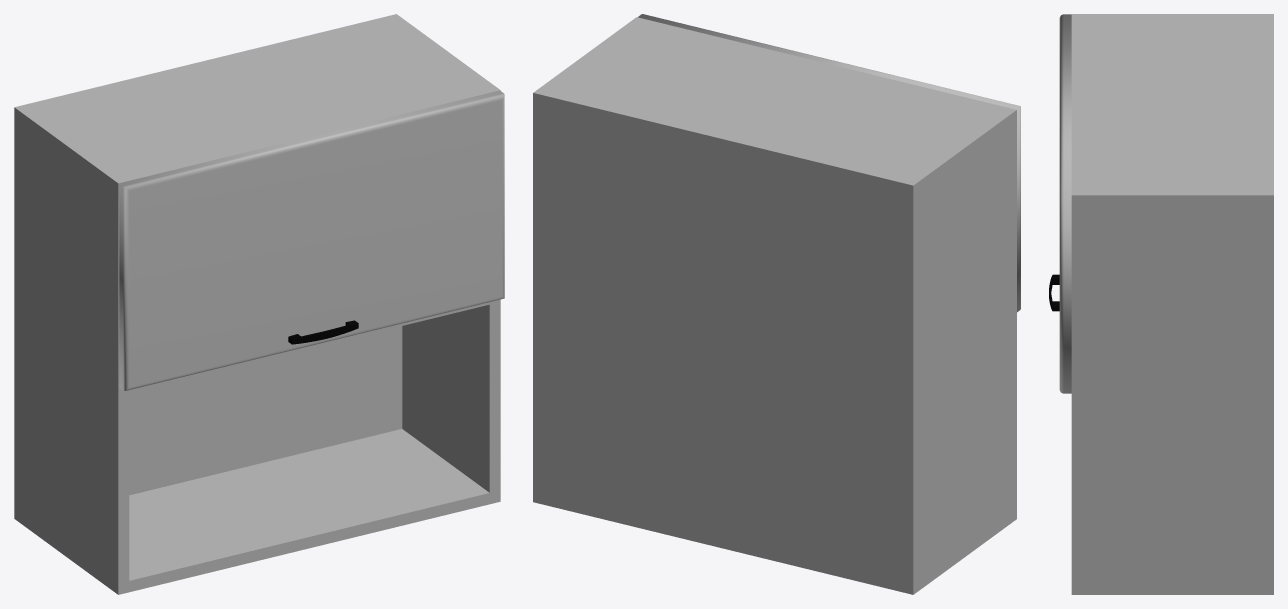
3 views of the same model, side by side, from view 1: azimuth 30°, elevation 25°; view 2: azimuth 150°, elevation 25°; view 3: azimuth 270°, elevation 25° (orthographic). The views are drawn at different scales.
Parts seen in each view (by area): view 1: Box038, Box031, Obj3d66-503491-2-357; view 2: Box038, Box031; view 3: Box038, Box031.
Boxes of the visible parts, x1,y1,x2,y2 form: Box038: (14,14,500,594); Box031: (119,90,504,391); Obj3d66-503491-2-357: (288,320,358,344); Box038: (533,17,1016,594); Box031: (638,14,1020,312); Box038: (1071,14,1273,594); Box031: (1059,14,1071,393).
Bounding box in the file's own units: 0.7 × 0.72 × 0.3671.
2 materials, 1 textured.
